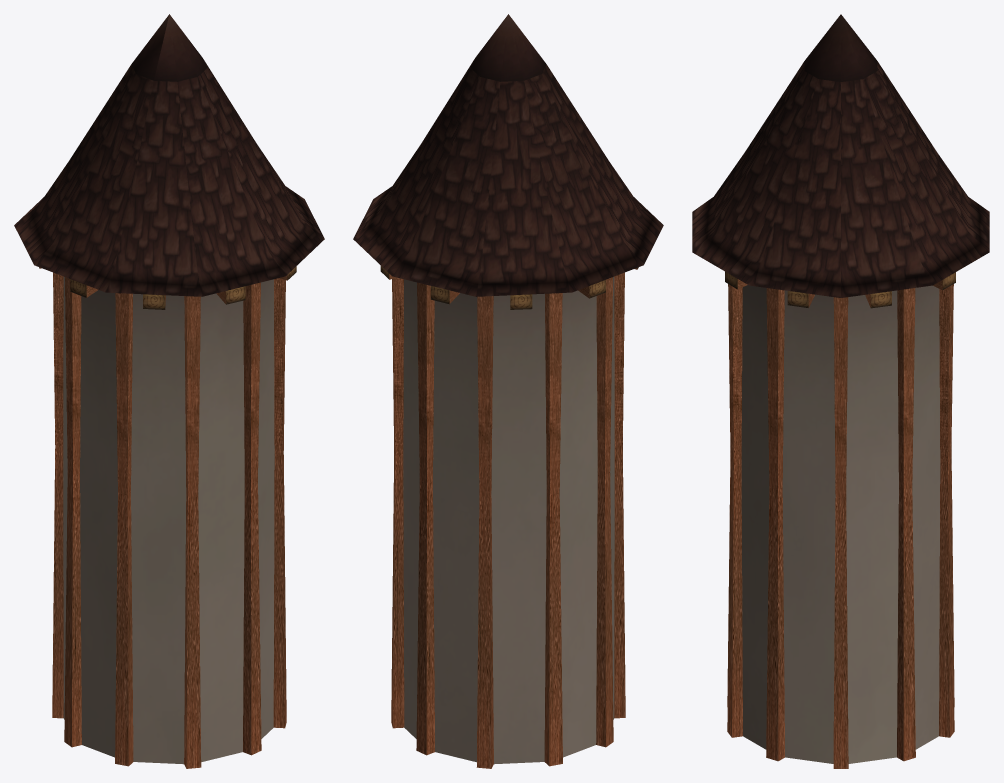
File: fanasty_mod_round_tower_lar_wood.fbx
3 renders of one model, left to right at view 1: azimuth 30°, elevation 25°; view 2: azimuth 150°, elevation 25°; view 3: azimuth 270°, elevation 25°, orthographic.
Parts seen in each view (by area): view 1: round_tower_lar_wood; view 2: round_tower_lar_wood; view 3: round_tower_lar_wood.
Part boxes in pixels (x1,y1,x2,y2): round_tower_lar_wood: (14, 14, 324, 768); round_tower_lar_wood: (353, 14, 663, 768); round_tower_lar_wood: (692, 14, 989, 768).
Bounding box in the file's own units: 5.28 × 13.17 × 5.02.
